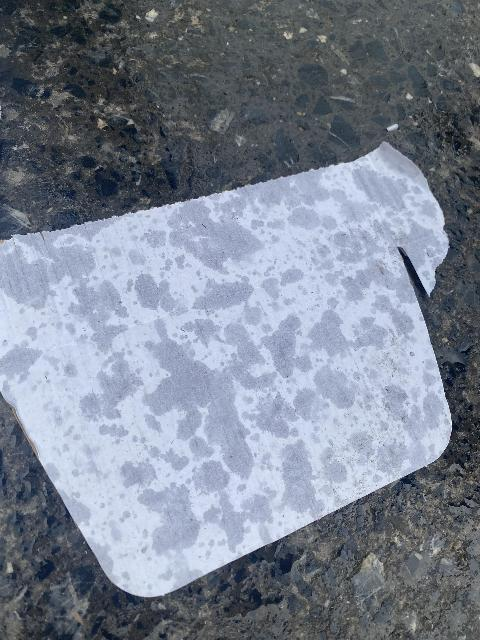Kagit: (0, 141, 454, 598)
